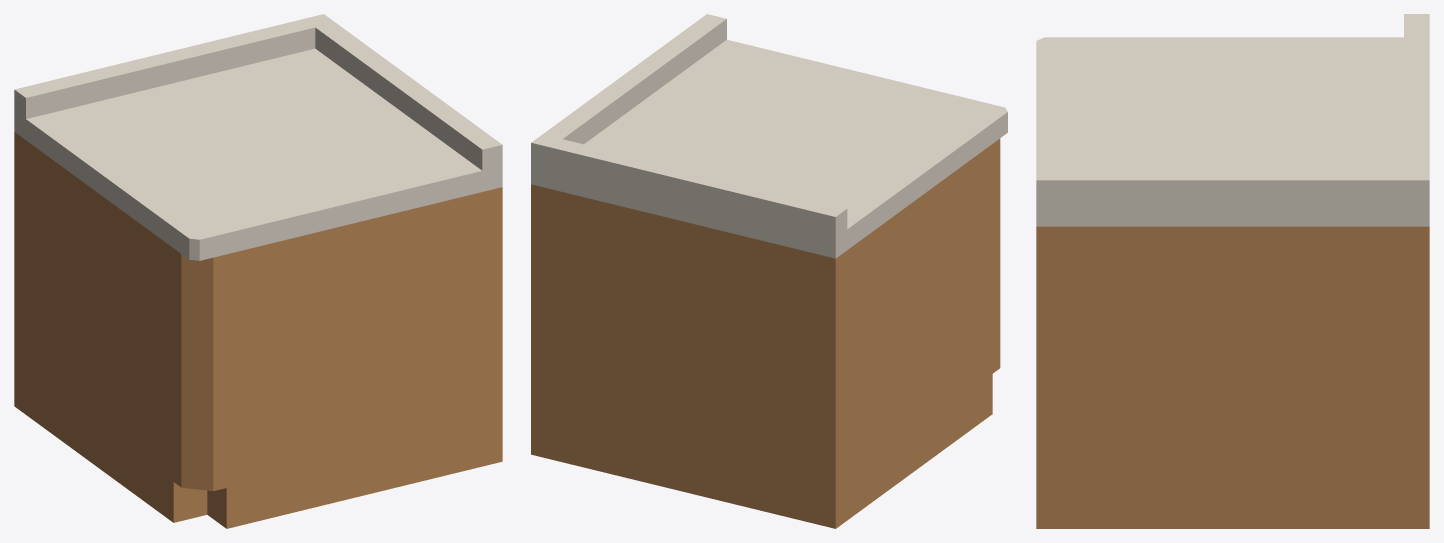
Rendered from kitKitchenCabinetCornerInner.glb.
The picture shows the model from 3 angles, left to right: view 1: azimuth 30°, elevation 25°; view 2: azimuth 150°, elevation 25°; view 3: azimuth 270°, elevation 25°; orthographic projection. The views are drawn at different scales.
Parts seen in each view (by area): view 1: kitKitchenCabinetCornerInner_wood, kitKitchenCabinetCornerInner_metal; view 2: kitKitchenCabinetCornerInner_wood, kitKitchenCabinetCornerInner_metal; view 3: kitKitchenCabinetCornerInner_wood, kitKitchenCabinetCornerInner_metal.
Boxes of the visible parts, bbox=[...] form: kitKitchenCabinetCornerInner_wood: bbox=[14, 132, 502, 528]; kitKitchenCabinetCornerInner_metal: bbox=[14, 14, 502, 260]; kitKitchenCabinetCornerInner_wood: bbox=[531, 138, 1000, 528]; kitKitchenCabinetCornerInner_metal: bbox=[531, 14, 1007, 258]; kitKitchenCabinetCornerInner_wood: bbox=[1036, 226, 1429, 528]; kitKitchenCabinetCornerInner_metal: bbox=[1036, 14, 1429, 226].
Bounding box in the file's own units: 0.92 × 0.9 × 0.92.
